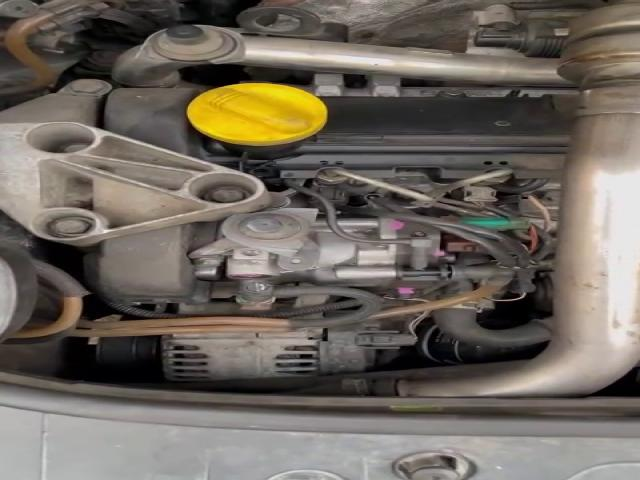alternator: (160, 315, 417, 381)
high_pressure_pump: (223, 216, 450, 300)
